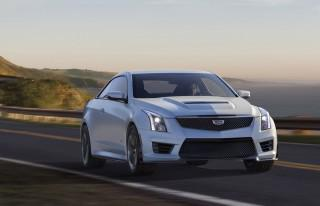cadillac: (207, 117, 228, 128)
